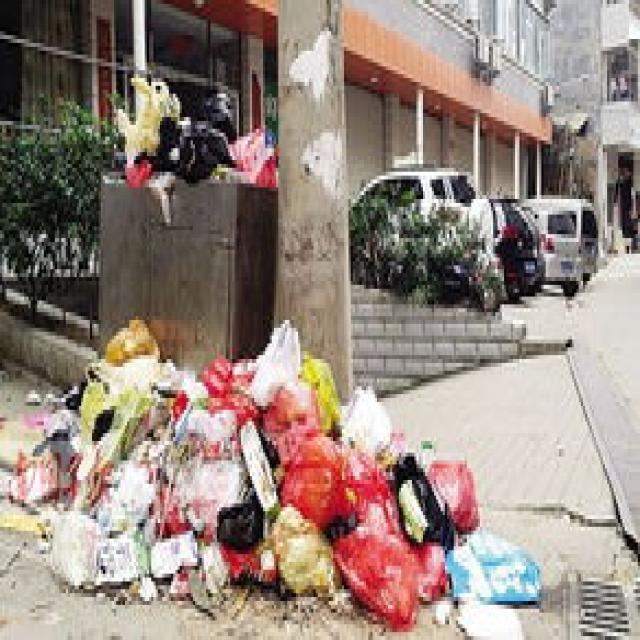garbage: (0, 320, 544, 624)
overflow: (94, 70, 274, 355)
